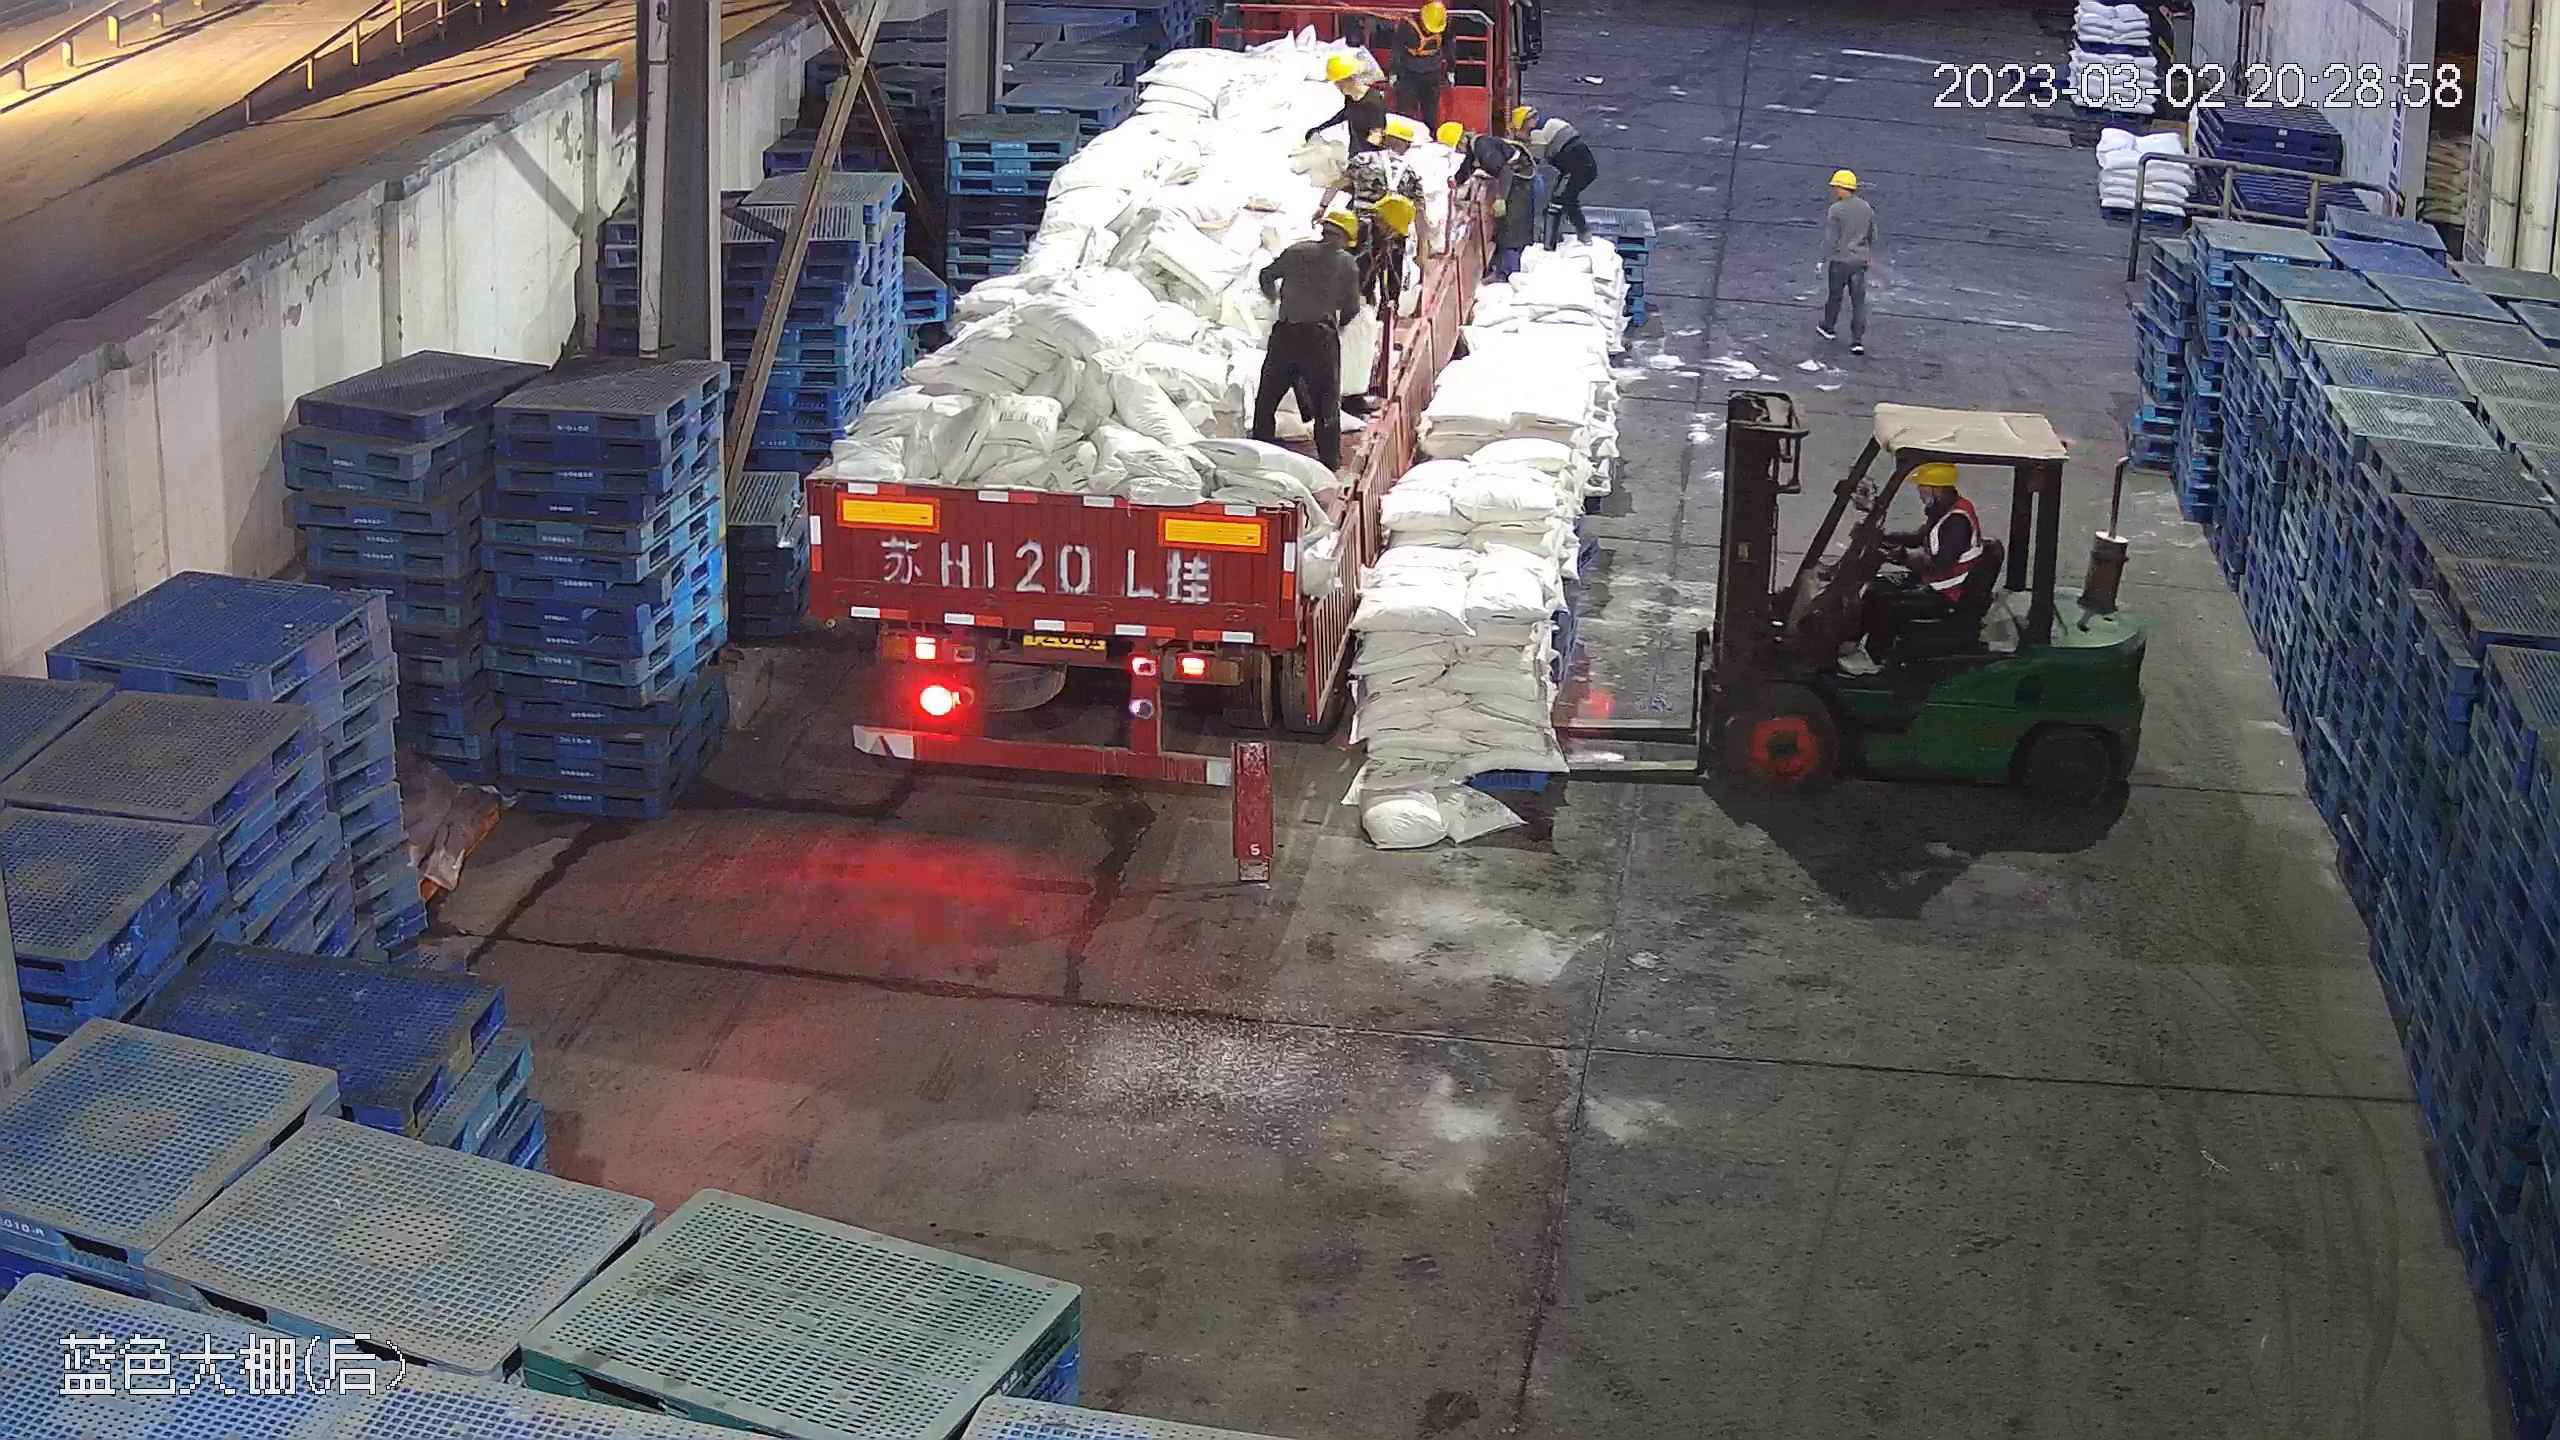belt: (1400, 14, 1443, 60), (1493, 133, 1537, 175), (1371, 146, 1409, 193), (1358, 219, 1394, 266)
head: (1271, 205, 1367, 284), (1905, 458, 1982, 552), (1323, 52, 1389, 116), (1501, 109, 1574, 162), (1434, 116, 1504, 169), (1823, 168, 1872, 229)
helmet: (1375, 193, 1416, 237), (1323, 207, 1361, 248), (1909, 460, 1958, 491), (1417, 1, 1451, 38), (1382, 120, 1429, 145), (1324, 52, 1360, 82), (1504, 106, 1535, 135), (1441, 121, 1474, 149), (1831, 168, 1860, 191)
people: (1243, 203, 1375, 458), (1837, 456, 1985, 677), (1465, 113, 1548, 277), (1370, 1, 1455, 158), (1808, 164, 1876, 355), (1508, 105, 1598, 250)
truck: (794, 11, 1448, 778)
